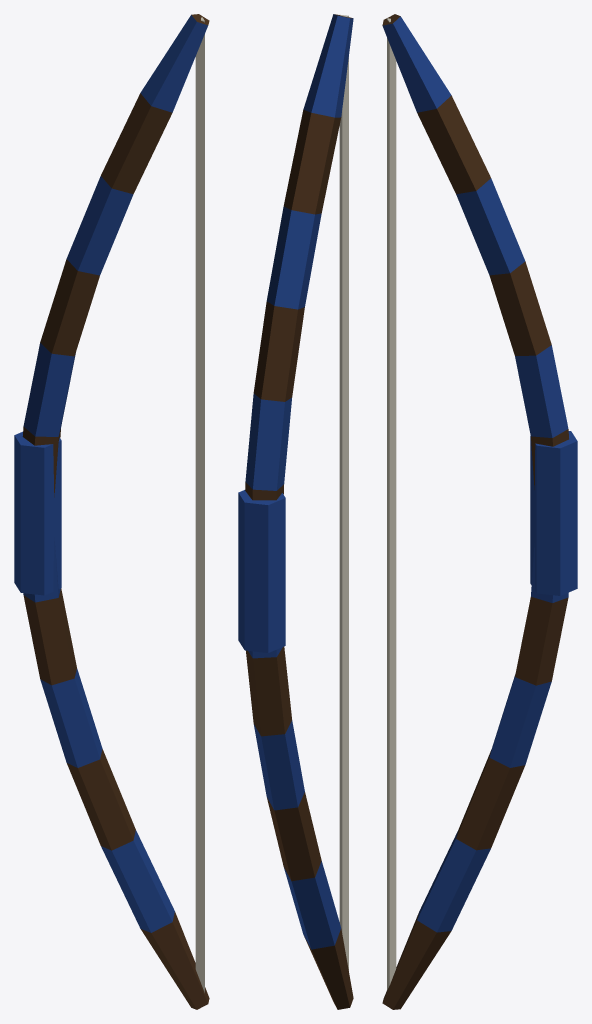
Rendered from weapon_bow.glb.
3 renders of one model, left to right at view 1: azimuth 90°, elevation 25°; view 2: azimuth 150°, elevation 25°; view 3: azimuth 270°, elevation 25°, orthographic.
Visible parts, largest first — view 1: minotaur_weapon_bow; view 2: minotaur_weapon_bow; view 3: minotaur_weapon_bow.
Part boxes in pixels (x1,y1,x2,y2): minotaur_weapon_bow: (14, 14, 209, 1009); minotaur_weapon_bow: (238, 14, 353, 1009); minotaur_weapon_bow: (382, 14, 577, 1009).
Size of the model in its own units: 0.0417 by 0.9681 by 0.1724.
